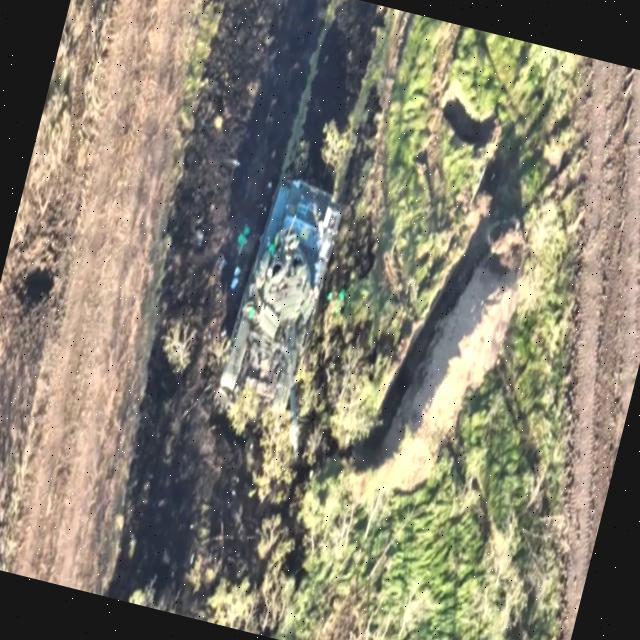MBT: (203, 168, 364, 462)
